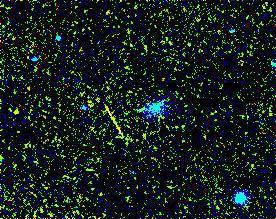star: (99, 111, 129, 141)
